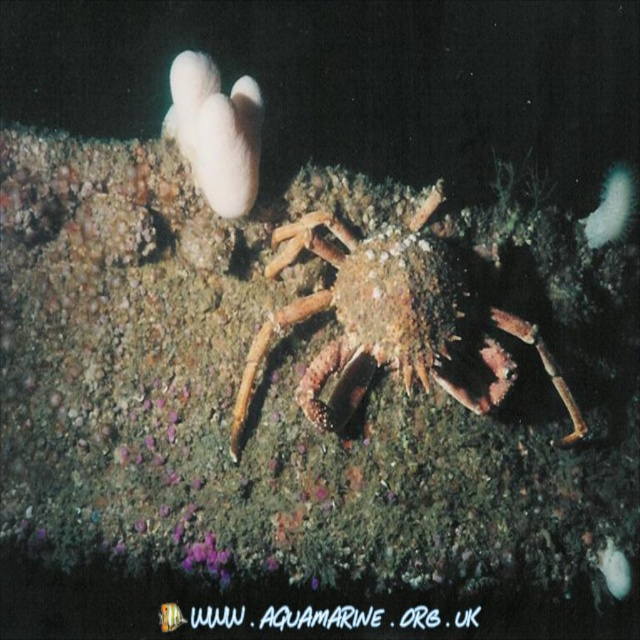Crab: (228, 176, 590, 464)
